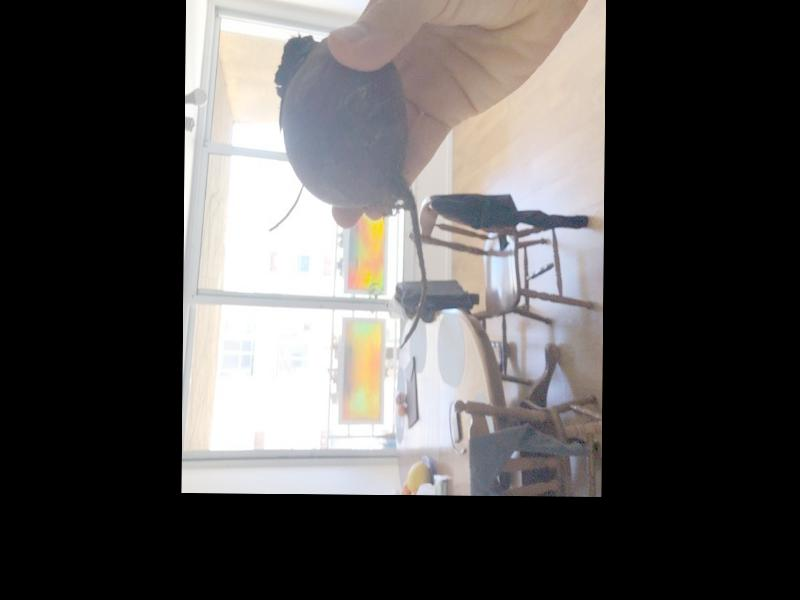Beet: (270, 35, 428, 349)
